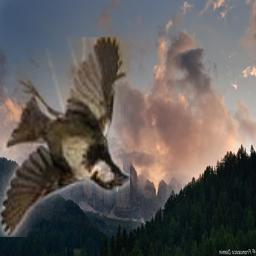Sparrow: (0, 37, 130, 237)
